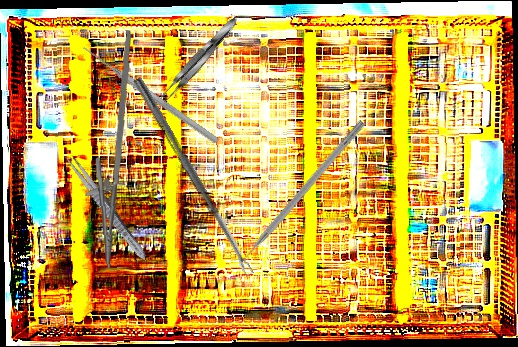Chopper: (227, 113, 366, 269)
Dressing Forceps: (61, 151, 150, 262)
Needle Holder: (79, 29, 140, 269)
Pusher: (79, 42, 221, 146)
Surgical Spoon: (132, 76, 254, 278)
Tissue Forceps: (156, 13, 243, 106)
